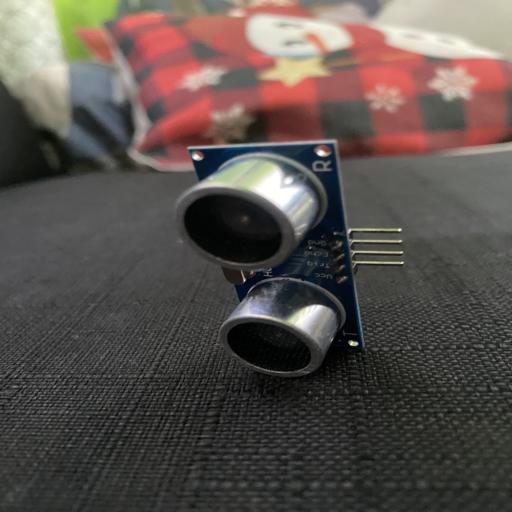Ultrasonic Sensor: (172, 138, 406, 378)
